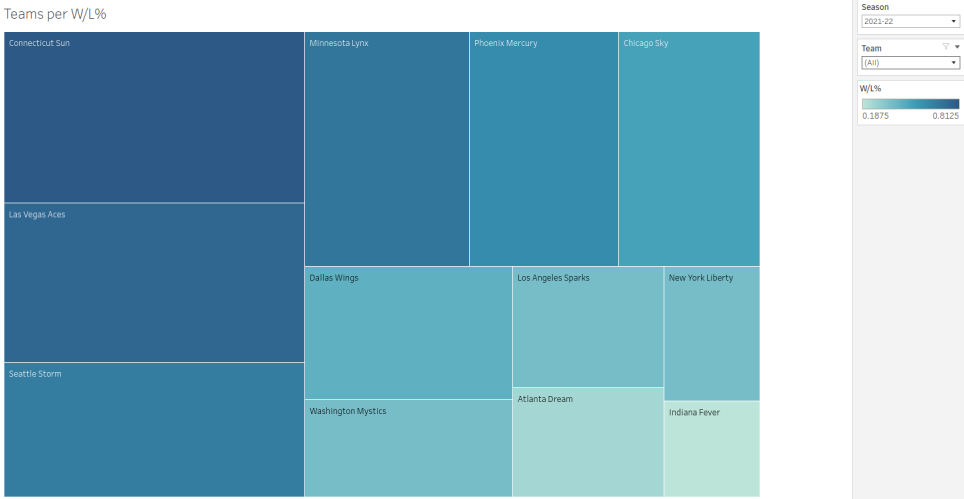

This screenshot's page, from the dashboard's own definition file:
{"tool":"tableau","page":{"name":"Dashboard 4","canvas":[1000,1000],"units":"permille","ordinal":1},"visuals":[{"type":"worksheet","title":"Sheet 10","mark":"Automatic","rows":["Team"],"box":[8.6,10.6,810.6,978.8]},{"type":"filter","title":"Sheet 10","param":"[federated.1xjvibq153o2mr1czbk7y0131sqf].[none:Season:nk]","box":[819.2,10.6,172.2,68.8]},{"type":"filter","title":"Sheet 10","param":"[federated.1xjvibq153o2mr1czbk7y0131sqf].[none:Team:nk]","box":[819.2,79.4,172.2,68.8]}]}

Visuals, with their boxes on the dashboard's canvas, which has no fixed pixel size, in thousandths of its width and height (x1, y1, x2, y2). These are canvas units, not pixel positions in the 964x499 screenshot, which may show the page scaled, cropped or inside an application window:
"Sheet 10" worksheet: x1=9 y1=11 x2=819 y2=989
"Sheet 10" filter: x1=819 y1=11 x2=991 y2=79
"Sheet 10" filter: x1=819 y1=79 x2=991 y2=148
